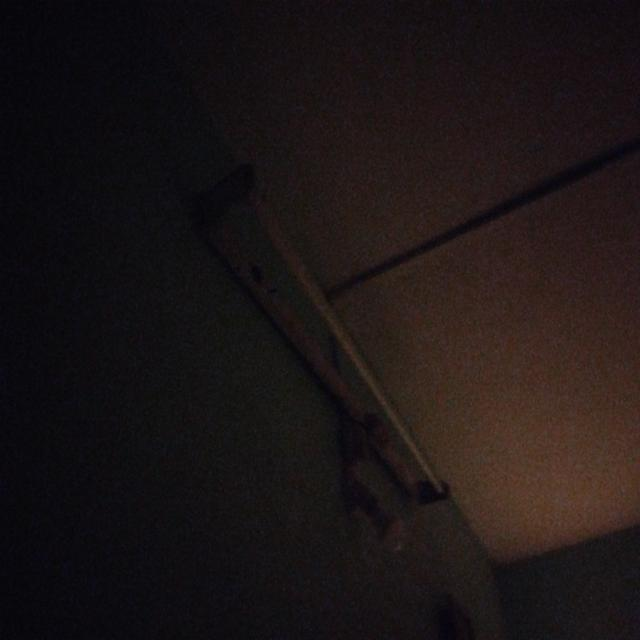tubelight_off: (181, 153, 454, 508)
